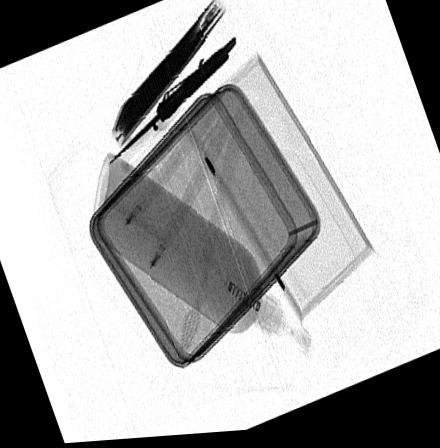Knife: (102, 38, 239, 172)
Powerbank: (110, 0, 229, 149)
